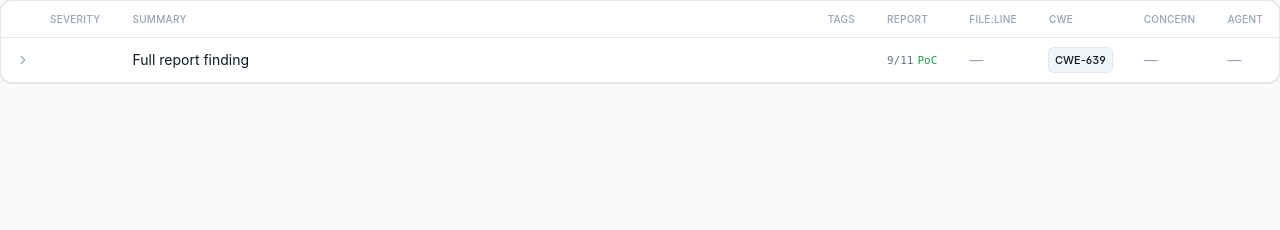
it: FindingsTable — expanded detail › expands a full-profile row to the triage card
Click the button named "Expand row" at (23, 60), box [13, 50, 33, 70]
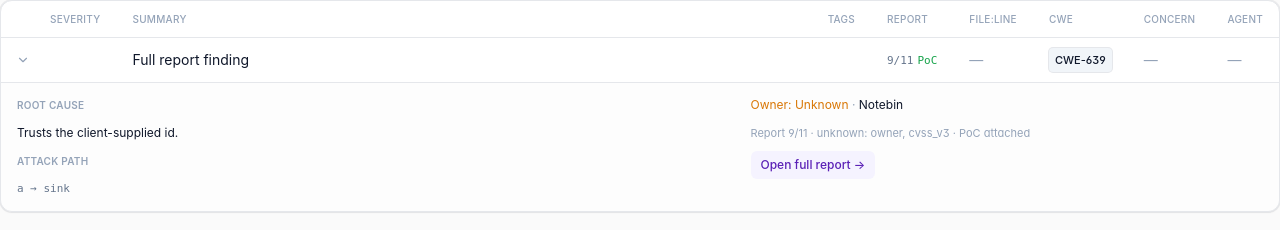
Expected: the text "Trusts the client-supplied id." is shown, [17, 125, 178, 140]
